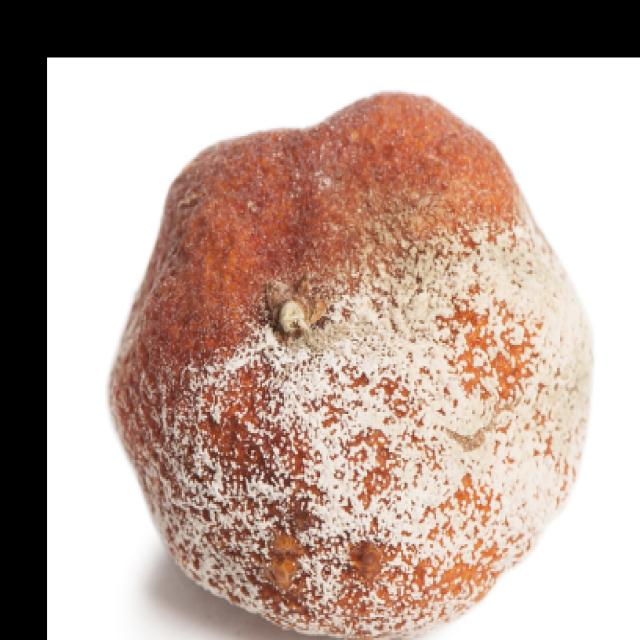sangat_busuk: (105, 87, 594, 640)
